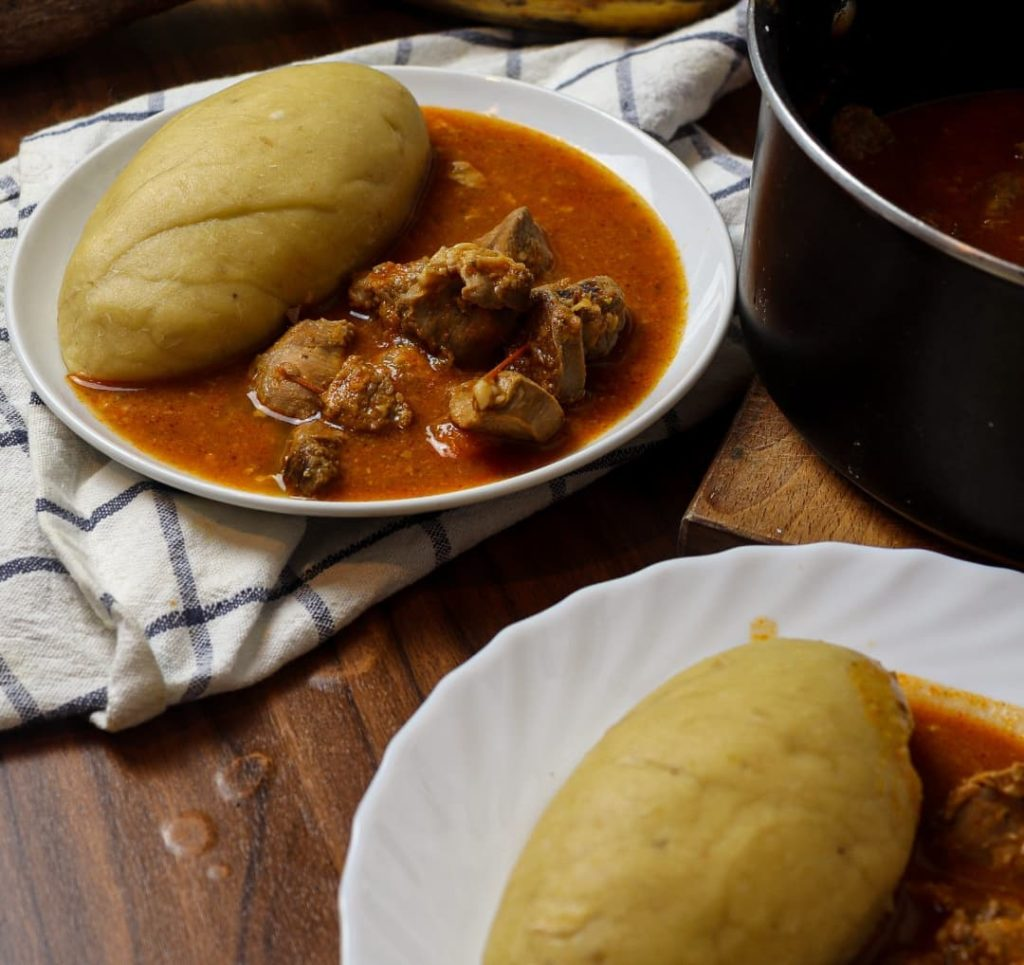foutou: (121, 66, 321, 308)
sauce claire: (448, 120, 589, 199)
viande de boeuf: (461, 251, 574, 416)
